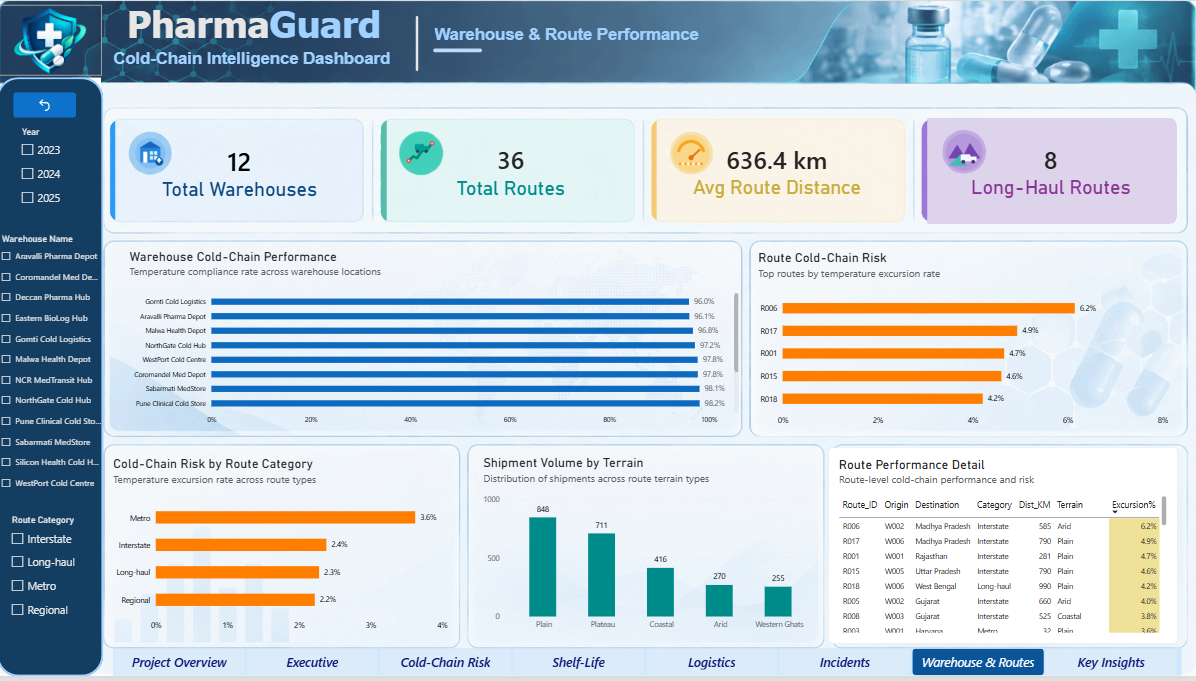

Layout of this report page (visuals, bound fields, positions):
{"tool":"powerbi","page":{"name":"Warehouse & Routes","canvas":[1920,1080],"ordinal":6},"visuals":[{"type":"textbox","box":[207.8,0,510.7,75.7],"z":0},{"type":"textbox","box":[186.1,75.7,484.8,71.4],"z":1000},{"type":"shape","box":[582,24,180,88],"z":2000},{"type":"textbox","box":[150,597,300,300],"z":3000},{"type":"textbox","box":[699,39,549.7,36.8],"z":4000},{"type":"image","box":[0,6,168,114],"z":5000},{"type":"shape","box":[698,38,78,82],"z":6000},{"type":"shape","box":[0,121.2,170,958.8],"z":7000},{"type":"image","box":[212.7,214.5,66.4,59.1],"z":8000},{"type":"image","box":[1066.7,207.3,88.7,72.7],"z":9000},{"type":"image","box":[1497.3,206.7,99.3,72],"z":10000},{"type":"cardVisual","title":"Total Shipments","fields":{"Data":["_Measures.Total Routes"]},"box":[622,193,400,158],"z":11000},{"type":"cardVisual","title":"Total Shipments","fields":{"Data":["_Measures.Avg Route Distance"]},"box":[1046,194.7,404.7,158],"z":12000},{"type":"slicer","fields":{"Values":["Dim_Date.Year"]},"box":[32.9,200,109.1,183.6],"z":13000},{"type":"clusteredBarChart","title":"Warehouse Cold-Chain Performance","fields":{"Y":["_Measures.Temperature Compliance Rate %"],"Category":["Warehouses.Warehouse_Name"]},"box":[195.7,381.4,1007.1,315.7],"z":14000},{"type":"clusteredBarChart","title":"Route Cold-Chain Risk","fields":{"Category":["Routes.Route_ID"],"Y":["_Measures.Temperature Excursion Rate %"]},"box":[1201.1,383.3,687.7,316.7],"z":15000},{"type":"clusteredBarChart","title":"Cold-Chain Risk by Route Category","fields":{"Y":["_Measures.Temperature Excursion Rate %"],"Category":["Routes.Route_Category"]},"box":[171,714.2,567,313.8],"z":16000},{"type":"clusteredColumnChart","title":"Shipment Volume by Terrain","fields":{"Category":["Routes.Terrain_Type"],"Y":["_Measures.Total Shipments"]},"box":[762.5,712.5,567,313.8],"z":17000},{"type":"image","box":[627.3,210.7,98.7,64.7],"z":18000},{"type":"cardVisual","title":"Total Shipments","fields":{"Data":["_Measures.Total Warehouses"]},"box":[186.4,193.6,404,161],"z":19000},{"type":"slicer","fields":{"Values":["Warehouses.Warehouse_Name"]},"box":[0,371.4,168,485],"z":20000},{"type":"cardVisual","title":"Total Shipments","fields":{"Data":["_Measures.Long-Haul Routes"]},"box":[1484.7,193.3,404.7,158],"z":21000},{"type":"slicer","fields":{"Values":["Routes.Route_Category"]},"box":[15.7,822.9,143,187],"z":22000},{"type":"tableEx","title":"Route Performance Detail","fields":{"Values":["Routes.Route_ID","Routes.Origin_Warehouse_ID","Routes.Destination_State","Routes.Route_Category","Routes.Distance_KM","Routes.Terrain_Type","_Measures.Temperature Excursion Rate %"]},"box":[1330,713,559,314],"z":23000},{"type":"pageNavigator","box":[186.1,1036.6,1709.7,43.3],"z":24000},{"type":"actionButton","box":[25,146.7,100.6,40.8],"z":25000}]}

Visuals, with their boxes on the page's 1920x1080 design canvas (x1, y1, x2, y2). These are canvas units, not pixel positions in the 1196x681 screenshot, which may show the page scaled, cropped or inside an application window:
textbox: {"left": 208, "top": 0, "right": 718, "bottom": 76}
textbox: {"left": 186, "top": 76, "right": 671, "bottom": 147}
shape: {"left": 582, "top": 24, "right": 762, "bottom": 112}
textbox: {"left": 150, "top": 597, "right": 450, "bottom": 897}
textbox: {"left": 699, "top": 39, "right": 1249, "bottom": 76}
image: {"left": 0, "top": 6, "right": 168, "bottom": 120}
shape: {"left": 698, "top": 38, "right": 776, "bottom": 120}
shape: {"left": 0, "top": 121, "right": 170, "bottom": 1080}
image: {"left": 213, "top": 214, "right": 279, "bottom": 274}
image: {"left": 1067, "top": 207, "right": 1155, "bottom": 280}
image: {"left": 1497, "top": 207, "right": 1597, "bottom": 279}
"Total Shipments" cardVisual: {"left": 622, "top": 193, "right": 1022, "bottom": 351}
"Total Shipments" cardVisual: {"left": 1046, "top": 195, "right": 1451, "bottom": 353}
slicer - Dim_Date.Year: {"left": 33, "top": 200, "right": 142, "bottom": 384}
"Warehouse Cold-Chain Performance" clusteredBarChart: {"left": 196, "top": 381, "right": 1203, "bottom": 697}
"Route Cold-Chain Risk" clusteredBarChart: {"left": 1201, "top": 383, "right": 1889, "bottom": 700}
"Cold-Chain Risk by Route Category" clusteredBarChart: {"left": 171, "top": 714, "right": 738, "bottom": 1028}
"Shipment Volume by Terrain" clusteredColumnChart: {"left": 762, "top": 712, "right": 1330, "bottom": 1026}
image: {"left": 627, "top": 211, "right": 726, "bottom": 275}
"Total Shipments" cardVisual: {"left": 186, "top": 194, "right": 590, "bottom": 355}
slicer - Warehouses.Warehouse_Name: {"left": 0, "top": 371, "right": 168, "bottom": 856}
"Total Shipments" cardVisual: {"left": 1485, "top": 193, "right": 1889, "bottom": 351}
slicer - Routes.Route_Category: {"left": 16, "top": 823, "right": 159, "bottom": 1010}
"Route Performance Detail" tableEx: {"left": 1330, "top": 713, "right": 1889, "bottom": 1027}
pageNavigator: {"left": 186, "top": 1037, "right": 1896, "bottom": 1080}
actionButton: {"left": 25, "top": 147, "right": 126, "bottom": 188}
